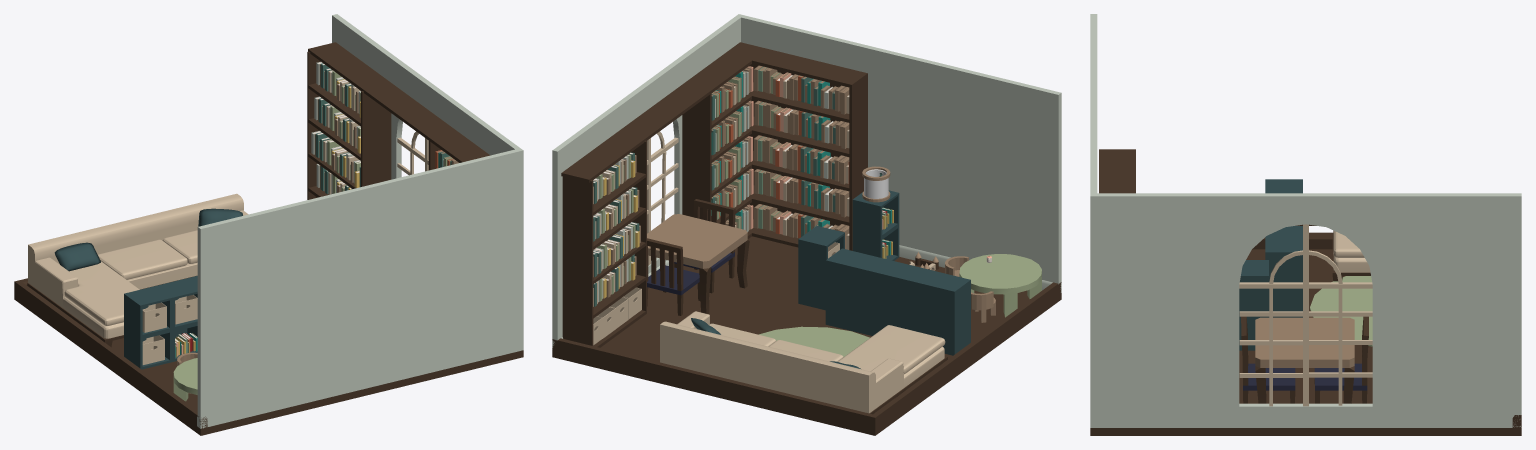
Rendered from Scene1_Sketchfab.fbx.
3 renders of one model, left to right at view 1: azimuth 30°, elevation 25°; view 2: azimuth 150°, elevation 25°; view 3: azimuth 270°, elevation 25°, orthographic. The views are drawn at different scales.
Parts seen in each view (by area): view 1: wall_right, Sammy_Sectional_Sofa:Sofa, polySurface2, Sammy_Adult_Bookshelf:adult_normal_bookshelf, Sammy_L_Bookshelf:pCube1, floor, ledge_sides, Sammy_Sectional_Sofa:LCushion, Sammy_Sectional_Sofa:Cushion1, Sammy_Kid_1_Bookshelf5:pCube2, Sammy_Kid_1_Bookshelf5:pCube1, Sammy_Sectional_Sofa:Pillow (+7 smaller); view 2: wall_right, Sammy_L_Bookshelf:pCube1, floor, Sammy_Sectional_Sofa:Sofa, Sammy_Adult_Bookshelf:adult_normal_bookshelf, polySurface2, ledge_sides, Sammy_Adult_Table:pCube2, Sammy_Kid_Table:pCylinder1, Sammy_Sectional_Sofa:LCushion, Sammy_Kid_1_Bookshelf5:pCube2, Sammy_Adult_Chair2:adult_chair_mesh5 (+19 smaller); view 3: polySurface2, floor, Sammy_Adult_Table:pCube2, wall_right, pCube1, Sammy_Rug:rug_mesh, Sammy_L_Bookshelf:pCube1, Sammy_Kid_1_Bookshelf2:pCube2, pCube2, pCube3, Sammy_Kid_1_Bookshelf1:pCube2, Sammy_Adult_Chair2:adult_chair_mesh5 (+7 smaller).
Boxes of the visible parts, x1,y1,x2,y2 form: wall_right: [197, 148, 523, 428]; Sammy_Sectional_Sofa:Sofa: [28, 193, 248, 338]; polySurface2: [332, 14, 523, 345]; Sammy_Adult_Bookshelf:adult_normal_bookshelf: [307, 51, 391, 199]; Sammy_L_Bookshelf:pCube1: [308, 42, 490, 170]; floor: [14, 293, 523, 435]; ledge_sides: [14, 278, 207, 428]; Sammy_Sectional_Sofa:LCushion: [59, 261, 139, 325]; Sammy_Sectional_Sofa:Cushion1: [98, 239, 187, 279]; Sammy_Kid_1_Bookshelf5:pCube2: [124, 286, 172, 337]; Sammy_Kid_1_Bookshelf5:pCube1: [124, 326, 172, 369]; Sammy_Sectional_Sofa:Pillow: [54, 242, 100, 271]; wall_right: [736, 14, 1061, 292]; Sammy_L_Bookshelf:pCube1: [561, 42, 867, 250]; floor: [552, 236, 1061, 435]; Sammy_Sectional_Sofa:Sofa: [660, 311, 944, 413]; Sammy_Adult_Bookshelf:adult_normal_bookshelf: [562, 140, 646, 347]; polySurface2: [552, 14, 743, 347]; ledge_sides: [552, 282, 1061, 428]; Sammy_Adult_Table:pCube2: [647, 214, 749, 314]; Sammy_Kid_Table:pCylinder1: [959, 254, 1041, 317]; Sammy_Sectional_Sofa:LCushion: [837, 325, 945, 374]; Sammy_Kid_1_Bookshelf5:pCube2: [922, 272, 970, 323]; Sammy_Adult_Chair2:adult_chair_mesh5: [647, 238, 700, 315]; polySurface2: [1090, 193, 1521, 427]; floor: [1090, 249, 1521, 435]; Sammy_Adult_Table:pCube2: [1255, 317, 1354, 403]; wall_right: [1090, 14, 1099, 427]; pCube1: [1239, 224, 1372, 406]; Sammy_Rug:rug_mesh: [1310, 276, 1372, 346]; Sammy_L_Bookshelf:pCube1: [1099, 149, 1316, 225]; Sammy_Kid_1_Bookshelf2:pCube2: [1265, 234, 1302, 289]; pCube2: [1309, 288, 1372, 405]; pCube3: [1239, 288, 1302, 406]; Sammy_Kid_1_Bookshelf1:pCube2: [1239, 260, 1268, 312]; Sammy_Adult_Chair2:adult_chair_mesh5: [1314, 316, 1368, 403].
Bounding box in the file's own units: 24 × 14.7 × 24.
Materials: 2 (1 with a texture image).
